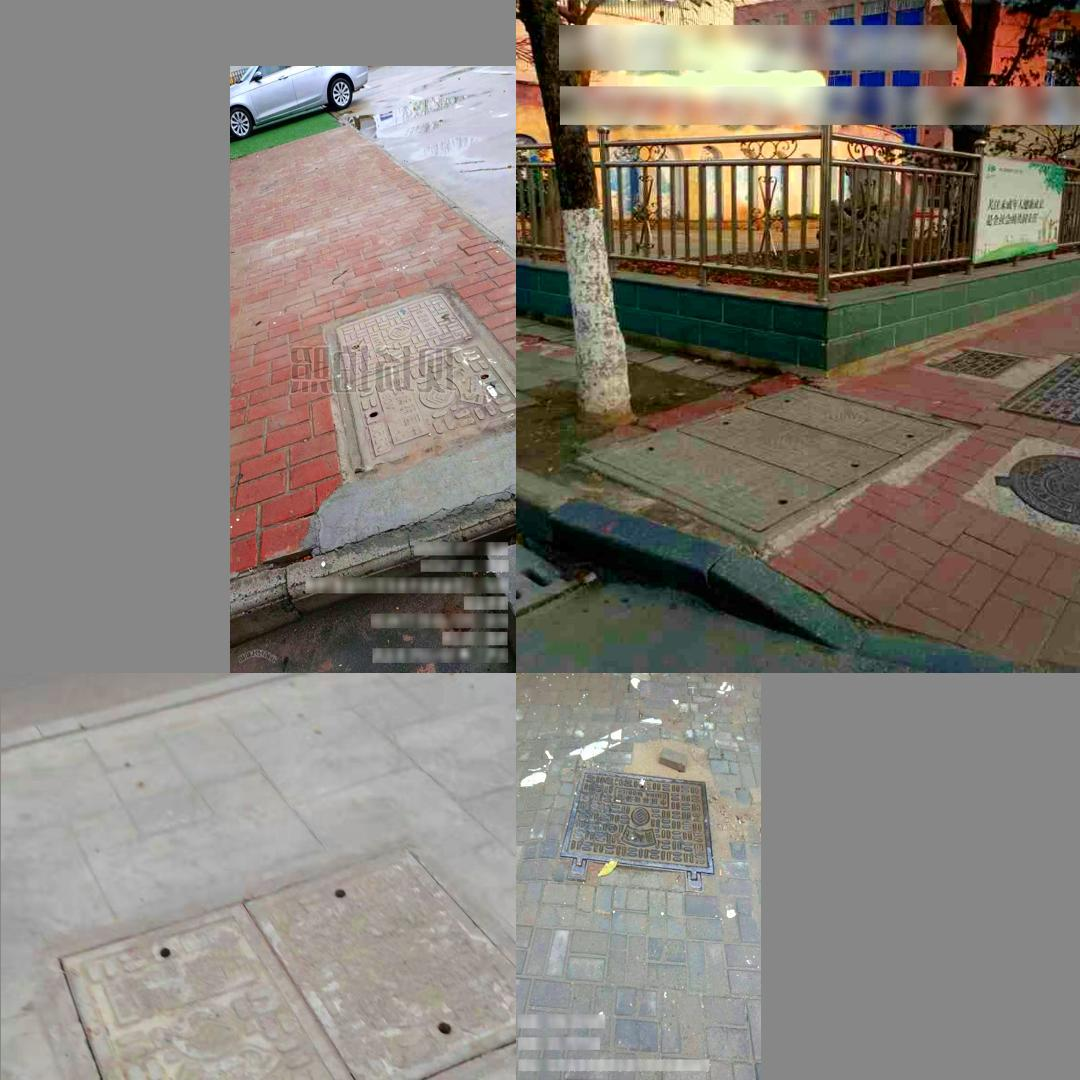good: (39, 839, 516, 1080), (576, 383, 959, 545), (328, 288, 514, 474), (559, 767, 714, 893), (996, 352, 1080, 455), (993, 453, 1080, 527), (923, 346, 1032, 380)
